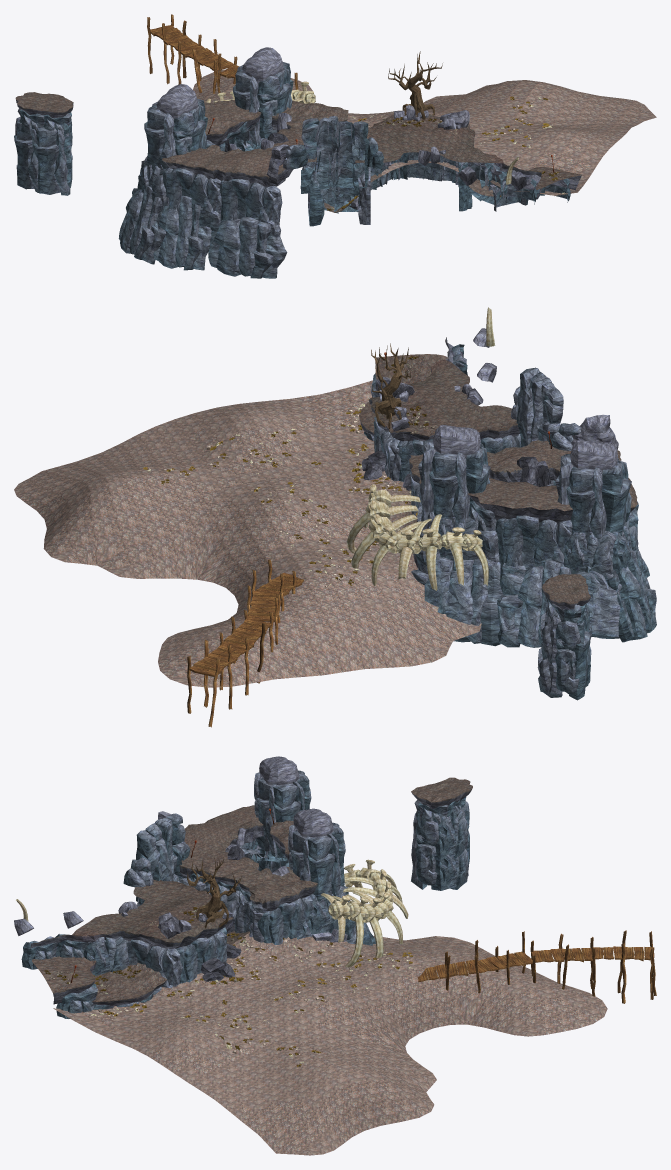
Rendered from intro-background.glb.
3 renders of one model, top to bottom at view 1: azimuth 30°, elevation 25°; view 2: azimuth 150°, elevation 25°; view 3: azimuth 270°, elevation 25°, orthographic. The views are drawn at different scales.
Bounding box in the file's own units: 168 × 49.8 × 159.
20 materials, 20 textured.
